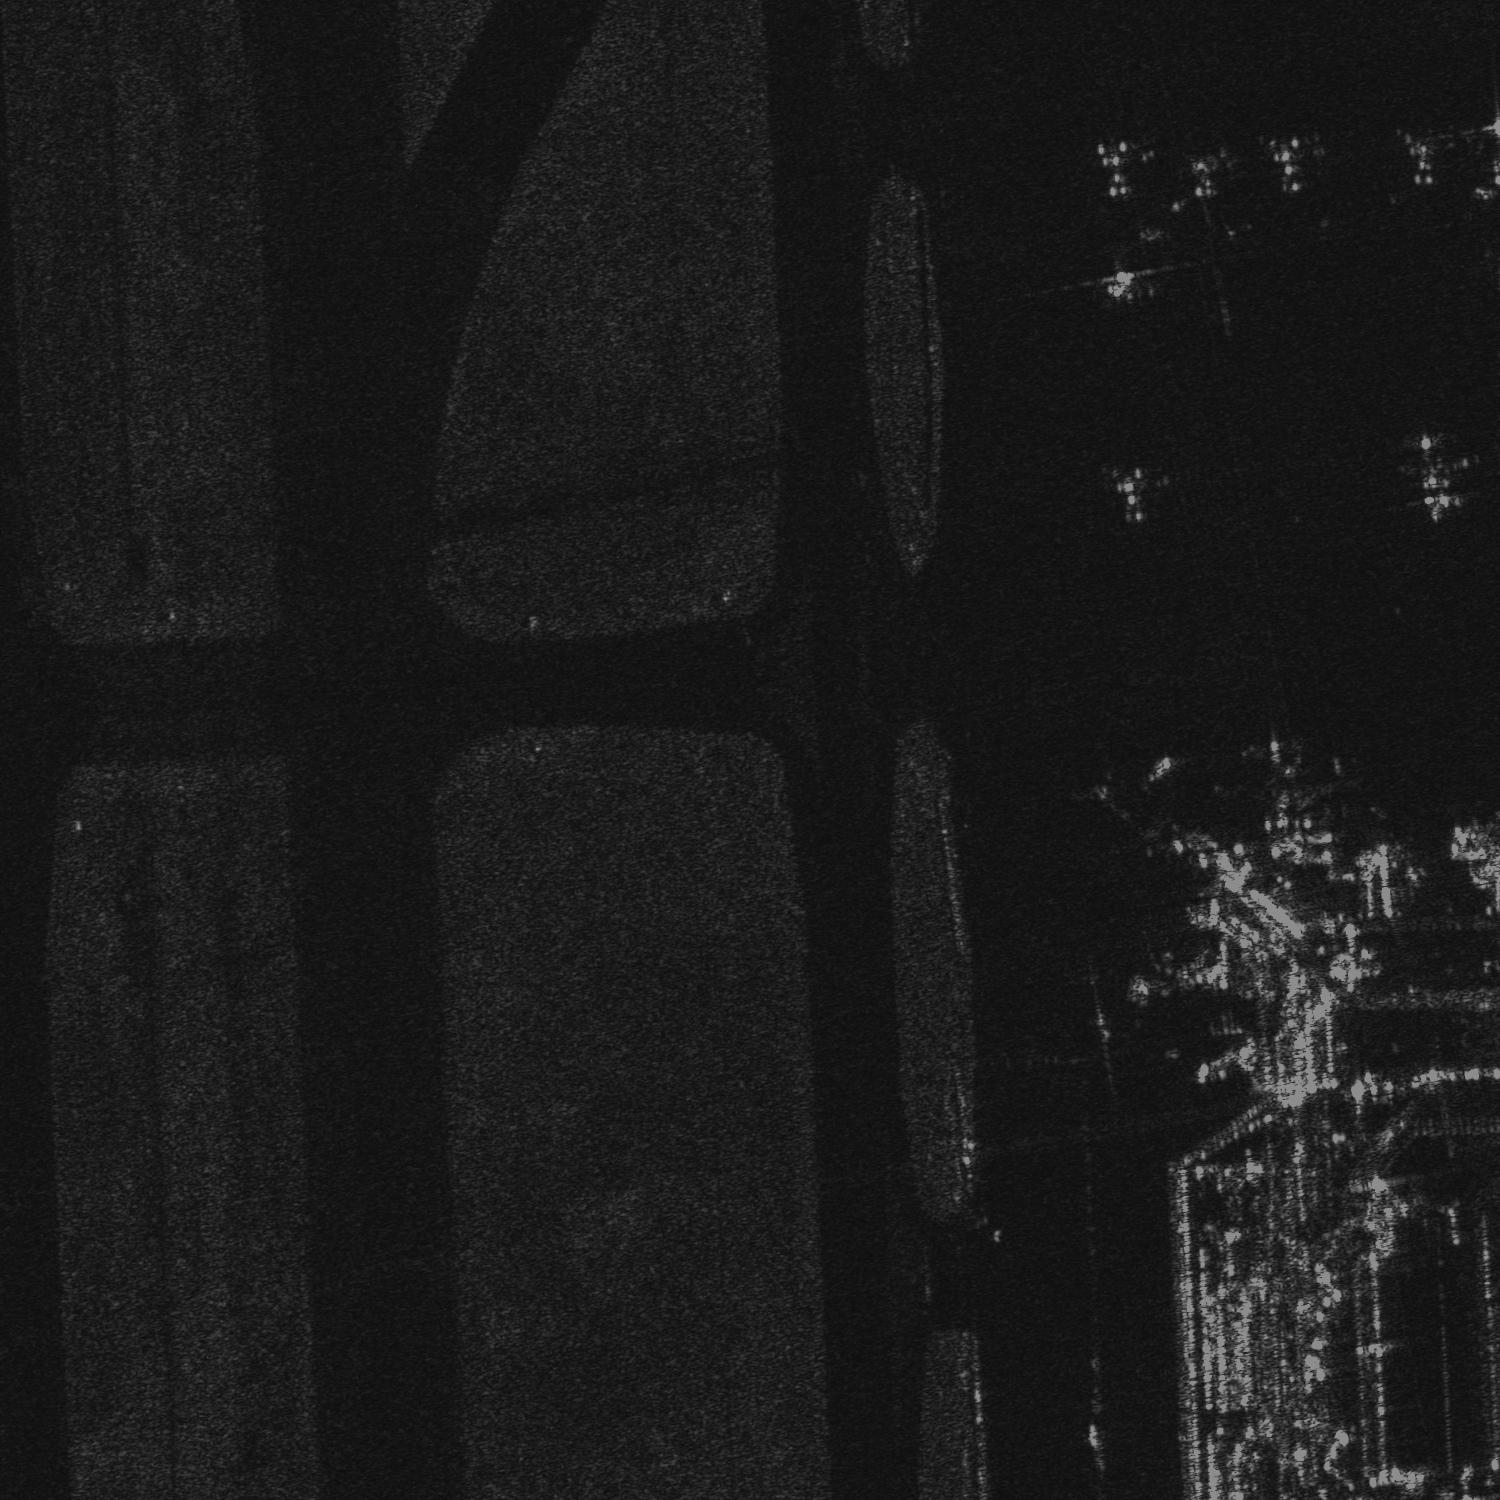ARJ21: (1098, 468, 1162, 530), (1088, 253, 1157, 306)
other: (1194, 721, 1364, 843), (1382, 418, 1489, 532), (1082, 135, 1161, 202), (1260, 129, 1327, 196), (1176, 144, 1246, 207), (1398, 126, 1455, 192), (1466, 115, 1499, 201)
